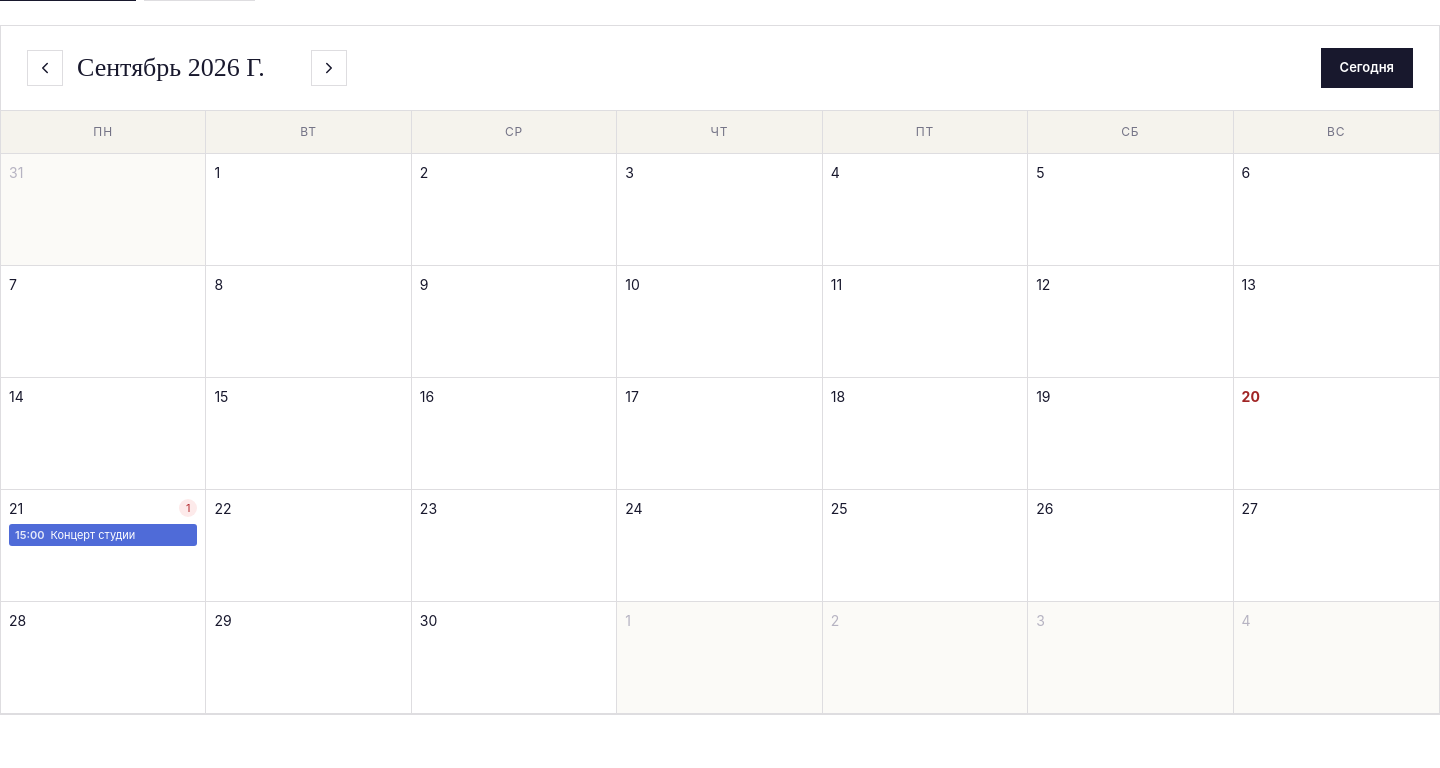
Test: календарь событий › по клику на день открывает панель с событиями
The image size is (1440, 768).
Click the button "21 1 15:00 Концерт студии". click: [104, 546]
box: top-left (1, 490), bottom-right (206, 602)
(page scrolled)
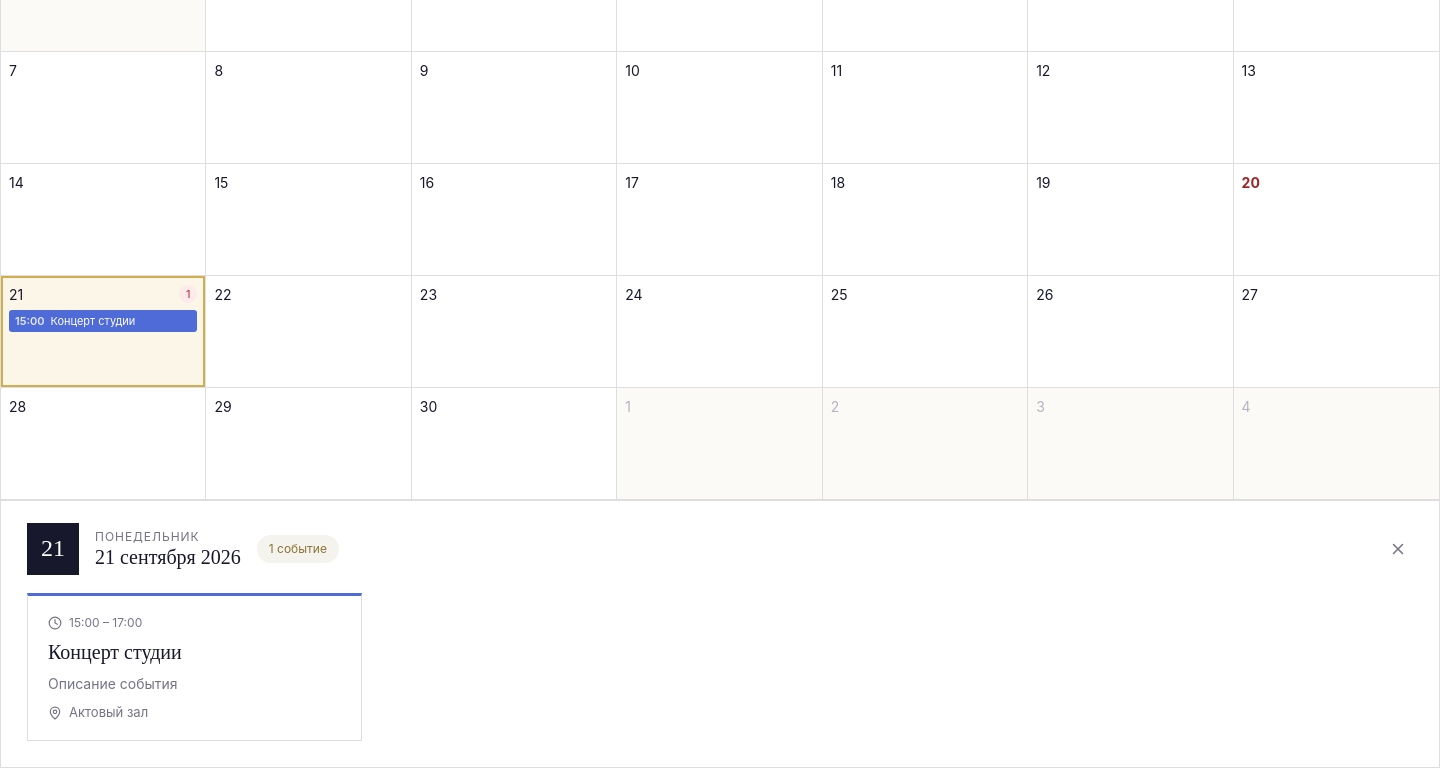
Expected: the text "1 событие" is shown, top-left (257, 534), bottom-right (339, 562)
Expected: the text "Описание события" is shown, top-left (48, 674), bottom-right (178, 692)
